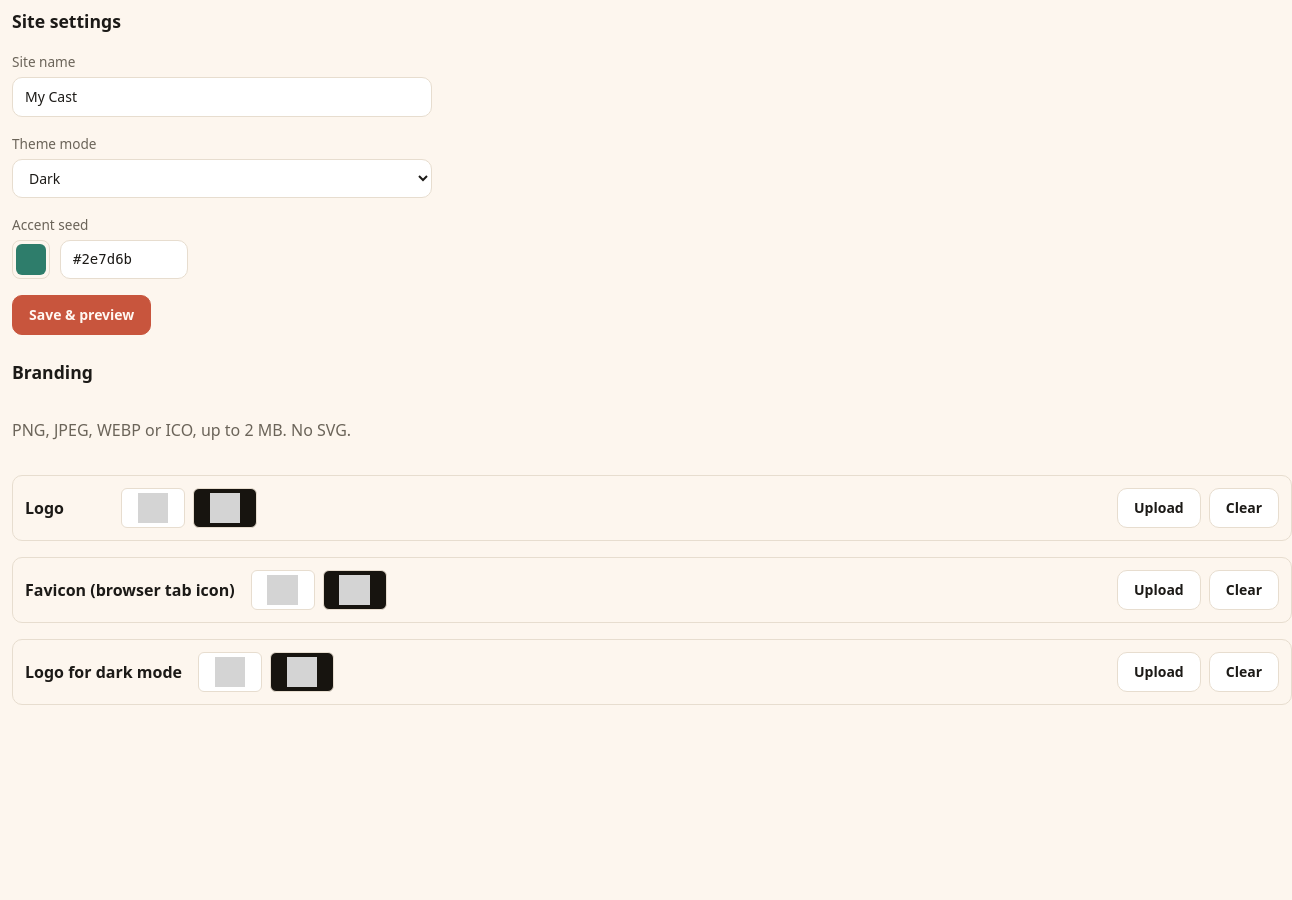
Test: AdminSite accent hex (#199) › takes a pasted brand colour, and refuses to save one that is not whole
The image size is (1292, 900).
Replace the text in the field named "Accent colour as hex" with "1A5FB4" at (124, 259), box [60,240,188,279]
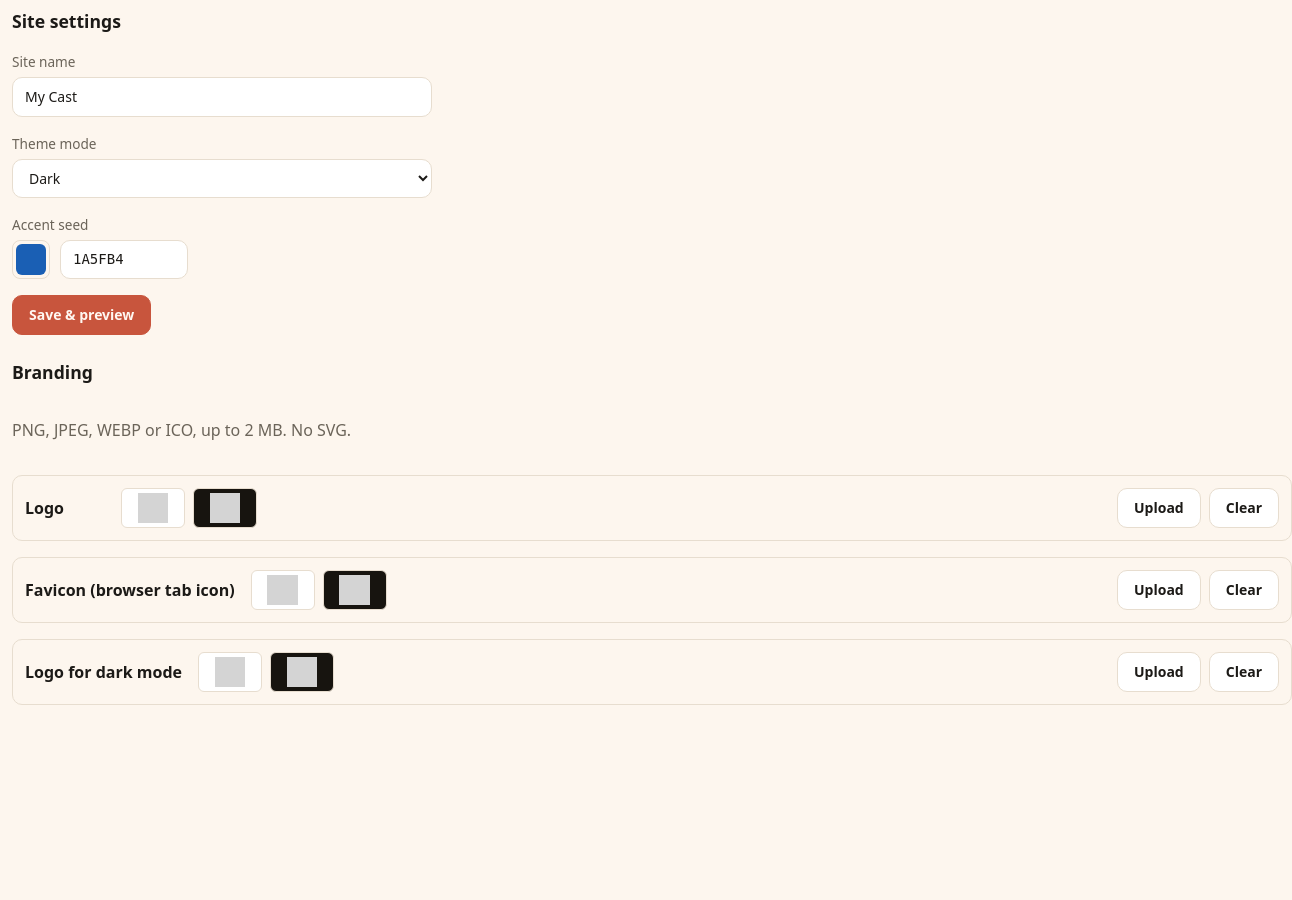
Expected: the button "Save & preview" is enabled, [12,295,151,335]
Result: the colour field labelled "Accent seed" holds "#1a5fb4" at [12,240,50,279]
Replace the text in the field named "Accent colour as hex" with "#1a5f" at (124, 259), box [60,240,188,279]
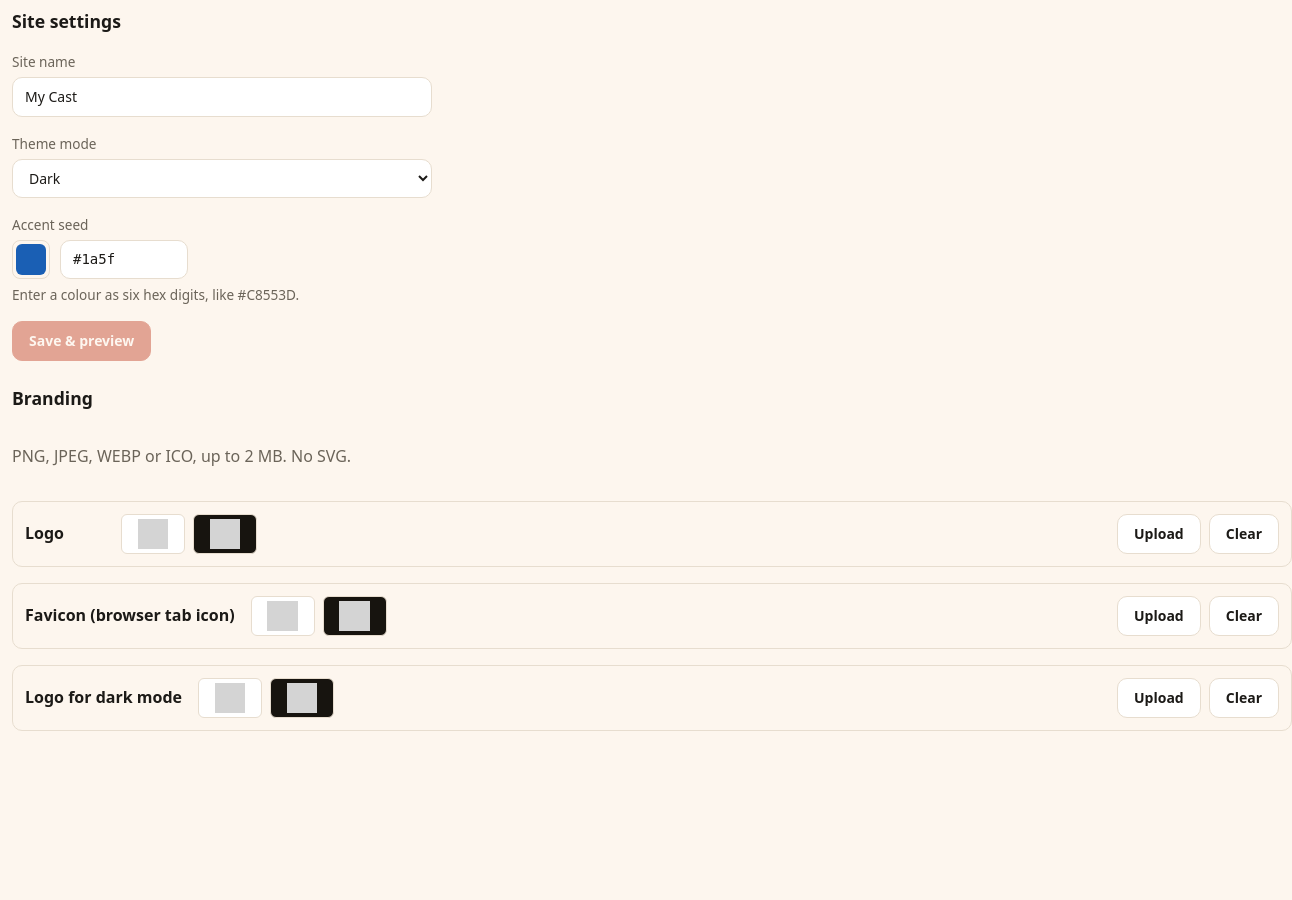
Result: the colour field labelled "Accent seed" holds "#1a5fb4" at [12,240,50,279]
Result: the text "Enter a colour as six hex digits, like #C8553D." is shown at [12,285,299,304]
Result: the button "Save & preview" is disabled at [12,321,151,361]
